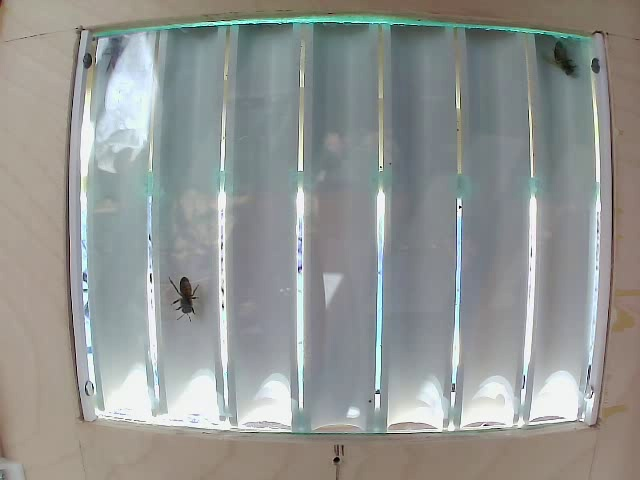bee: (166, 262, 222, 322), (545, 37, 573, 89)
